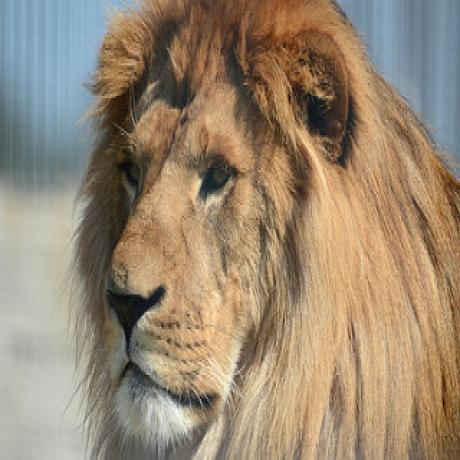Lion: (75, 0, 460, 460)
